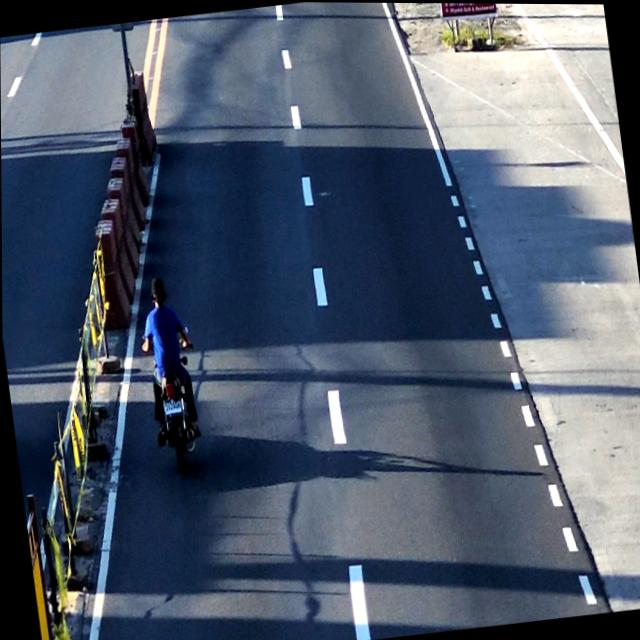License-Plate: (161, 393, 182, 416)
Motorcycle: (135, 276, 206, 473)
